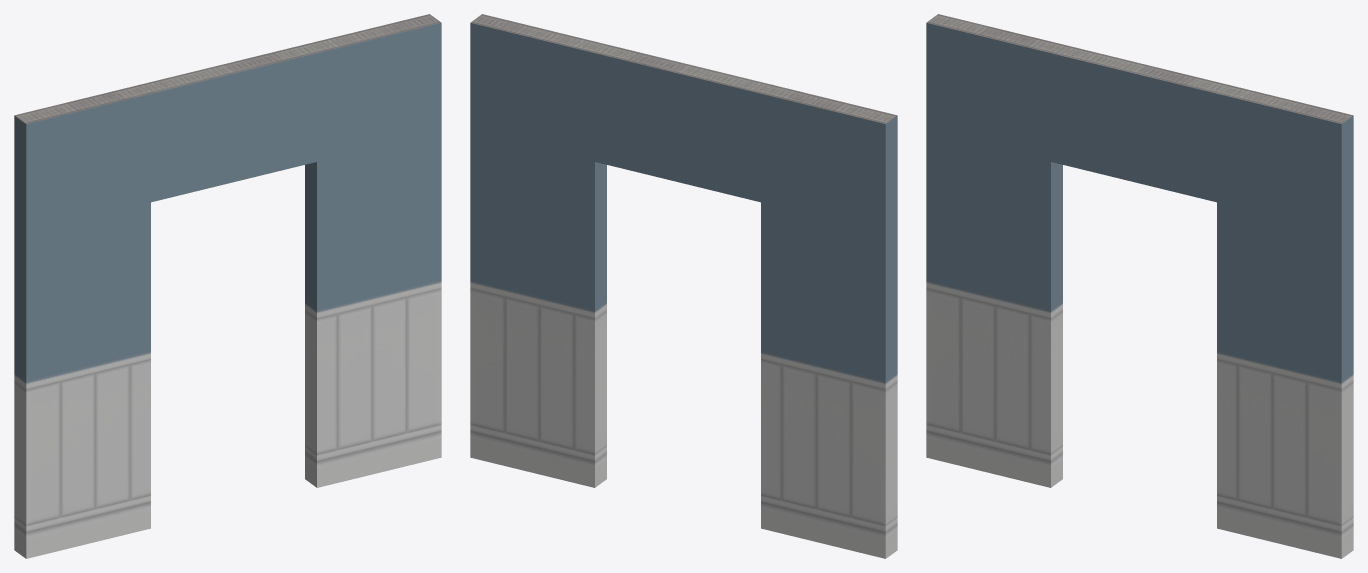
File: wall7_2.fbx
3 views of the same model, side by side, from view 1: azimuth 30°, elevation 25°; view 2: azimuth 150°, elevation 25°; view 3: azimuth 330°, elevation 25° (orthographic).
Parts seen in each view (by area): view 1: wall7_bathroom_b; view 2: wall7_bathroom_b; view 3: wall7_bathroom_b.
Part boxes in pixels (x1,y1,x2,y2): wall7_bathroom_b: (14,14,441,558); wall7_bathroom_b: (470,14,897,558); wall7_bathroom_b: (926,14,1353,558).
Bounding box in the file's own units: 400 × 400 × 20.
